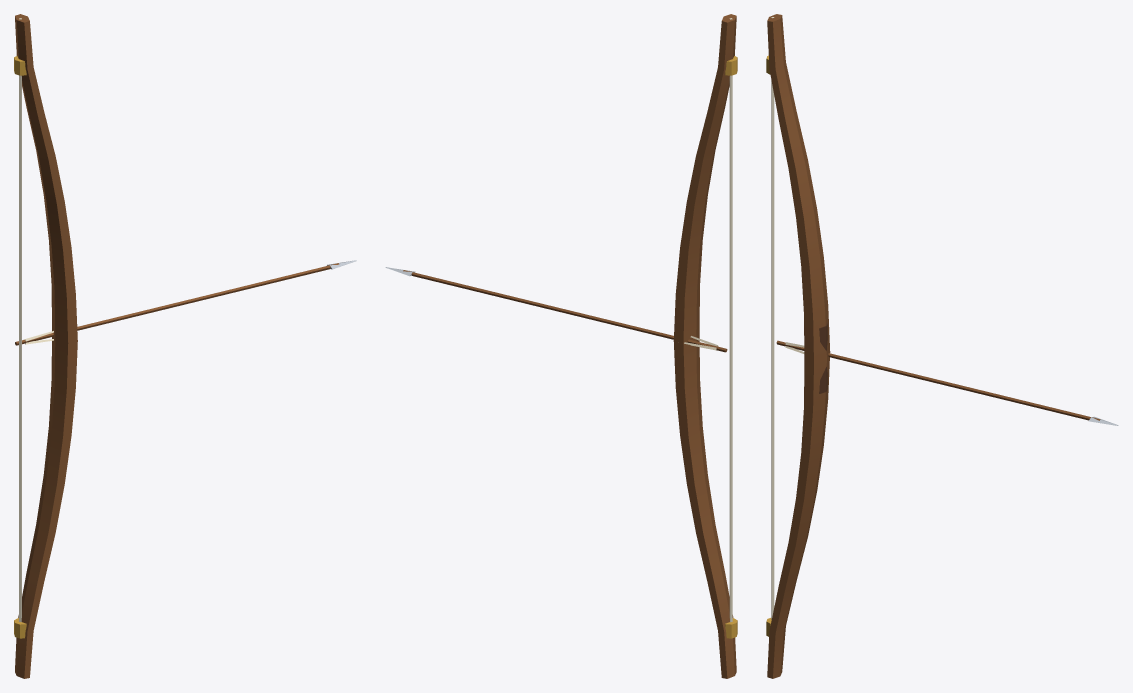
The model's file is Bow.fbx.
The picture shows the model from 3 angles, left to right: view 1: azimuth 30°, elevation 25°; view 2: azimuth 150°, elevation 25°; view 3: azimuth 330°, elevation 25°; orthographic projection.
Visible parts, largest first — view 1: Bow, String, Arrow; view 2: Bow, String, Arrow; view 3: Bow, String, Arrow.
Part boxes in pixels (box(x1,y1,x2,y2)): Bow: box(14, 14, 77, 678); String: box(19, 18, 21, 622); Arrow: box(15, 260, 356, 345); Bow: box(673, 14, 737, 678); String: box(729, 18, 732, 622); Arrow: box(385, 267, 727, 352); Bow: box(766, 14, 830, 678); String: box(771, 17, 774, 619); Arrow: box(776, 340, 1118, 425).
Bounding box in the file's own units: 0.7725 × 1.4 × 0.0625.
